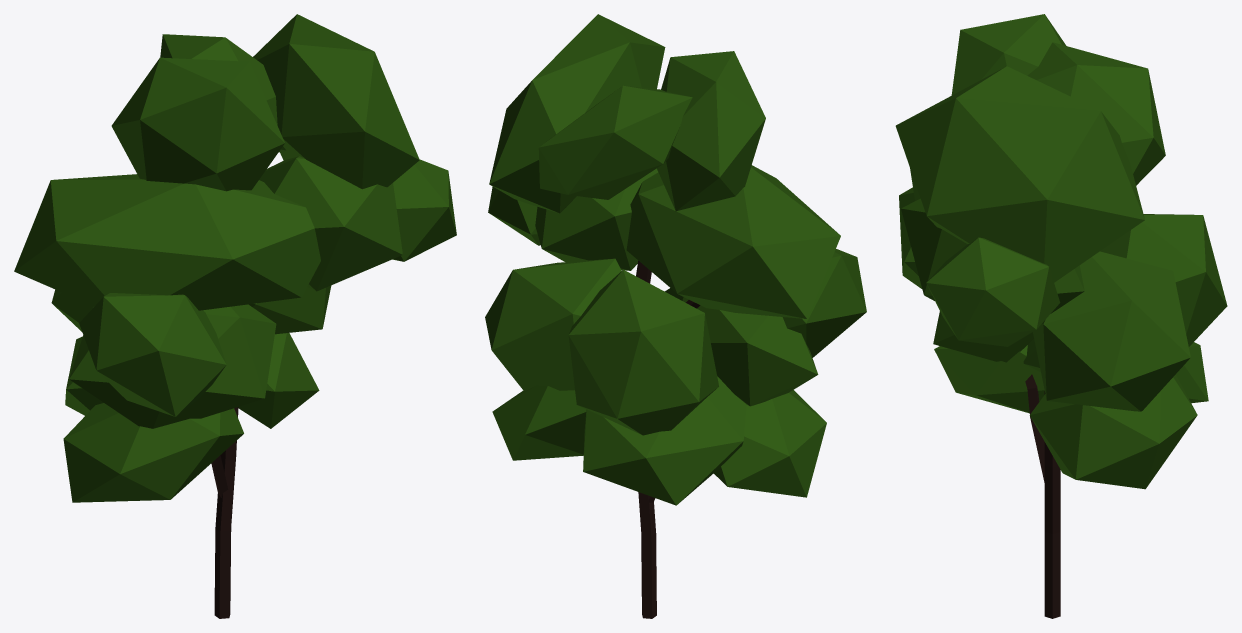
File: SM_tree_a_04.FBX
3 views of the same model, side by side, from view 1: azimuth 30°, elevation 25°; view 2: azimuth 150°, elevation 25°; view 3: azimuth 270°, elevation 25° (orthographic). The views are drawn at different scales.
Parts seen in each view (by area): view 1: Object028; view 2: Object028; view 3: Object028.
Part boxes in pixels (x1=…): Object028: x1=14, y1=14, x2=456, y2=618; Object028: x1=485, y1=14, x2=866, y2=618; Object028: x1=895, y1=14, x2=1227, y2=618.
Bounding box in the file's own units: 383 × 557 × 294.
